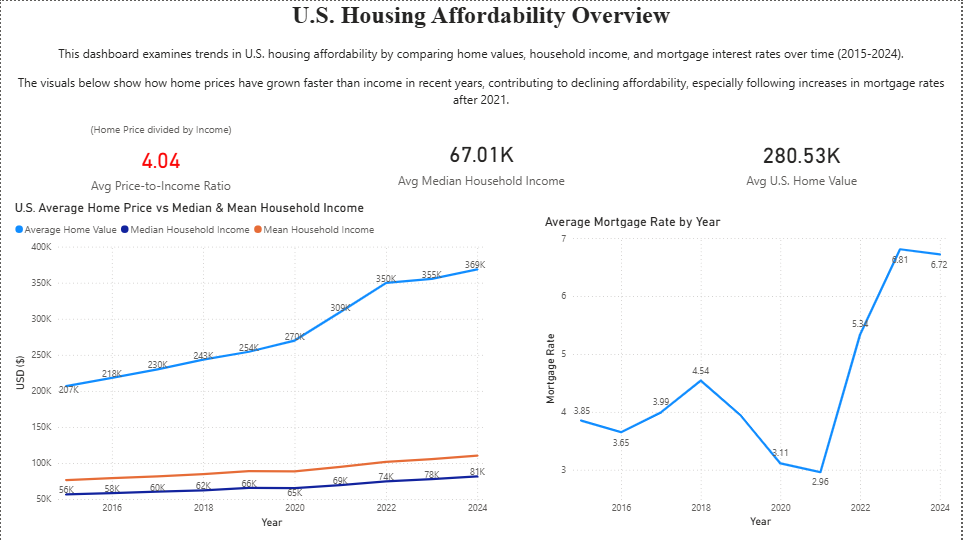

This screenshot's page, from the dashboard's own definition file:
{"tool":"powerbi","page":{"name":"Overview","canvas":[1280,720],"ordinal":0},"visuals":[{"type":"lineChart","title":"U.S. Average Home Price vs Median & Mean Household Income","fields":{"Y":["Avg(housing_analysis affordability.avg_home_price)","Avg(housing_analysis affordability.median_income)","Avg(housing_analysis affordability.mean_income)"],"Category":["housing_analysis affordability.year"]},"box":[12.9,264.3,640,442.9],"z":0},{"type":"lineChart","title":"Average Mortgage Rate by Year","fields":{"Y":["Avg(housing_analysis affordability.mortgage_rate)"],"Category":["housing_analysis affordability.year"]},"box":[720,282.9,550,424.3],"z":1000},{"type":"card","fields":{"Values":["Avg(housing_analysis affordability.avg_home_price)"]},"box":[854.9,157.8,425.4,112.5],"z":2000},{"type":"card","fields":{"Values":["Avg(housing_analysis affordability.median_income)"]},"box":[426.8,163.3,428.1,101.5],"z":3000},{"type":"card","fields":{"Values":["Avg(housing_analysis affordability.price_to_income)"]},"box":[0,156.7,426.7,108.3],"z":4000},{"type":"textbox","title":"U.S. Housing Affordability Overview","box":[0,0,1280,163.3],"z":5002}]}

Visuals, with their boxes in screenshot pixels (x1, y1, x2, y2), scaled from the page's 1280x720 canvas onto the 963x540 screenshot:
"U.S. Average Home Price vs Median & Mean Household Income" lineChart: bbox(10, 198, 491, 530)
"Average Mortgage Rate by Year" lineChart: bbox(542, 212, 955, 530)
card - Avg(housing_analysis affordability.avg_home_price): bbox(643, 118, 962, 203)
card - Avg(housing_analysis affordability.median_income): bbox(321, 122, 643, 199)
card - Avg(housing_analysis affordability.price_to_income): bbox(0, 118, 321, 199)
"U.S. Housing Affordability Overview" textbox: bbox(0, 0, 962, 122)
